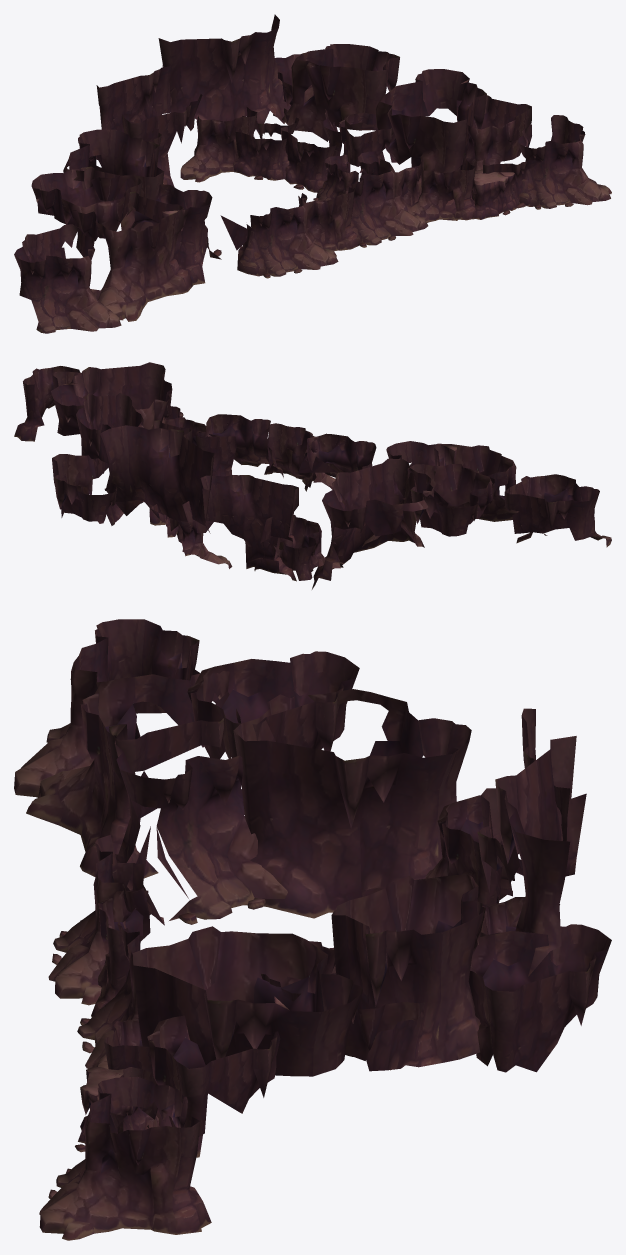
Rendered from area1_shiqiang_02.FBX.
The picture shows the model from 3 angles, top to bottom: view 1: azimuth 30°, elevation 25°; view 2: azimuth 150°, elevation 25°; view 3: azimuth 270°, elevation 25°; orthographic projection. The views are drawn at different scales.
Visible parts, largest first — view 1: area1_shiqiang_02; view 2: area1_shiqiang_02; view 3: area1_shiqiang_02.
Boxes of the visible parts, x1=… form: area1_shiqiang_02: x1=14, y1=14, x2=611, y2=333; area1_shiqiang_02: x1=14, y1=362, x2=611, y2=589; area1_shiqiang_02: x1=14, y1=619, x2=611, y2=1240.
Bounding box in the file's own units: 10978 × 2429 × 5461.
